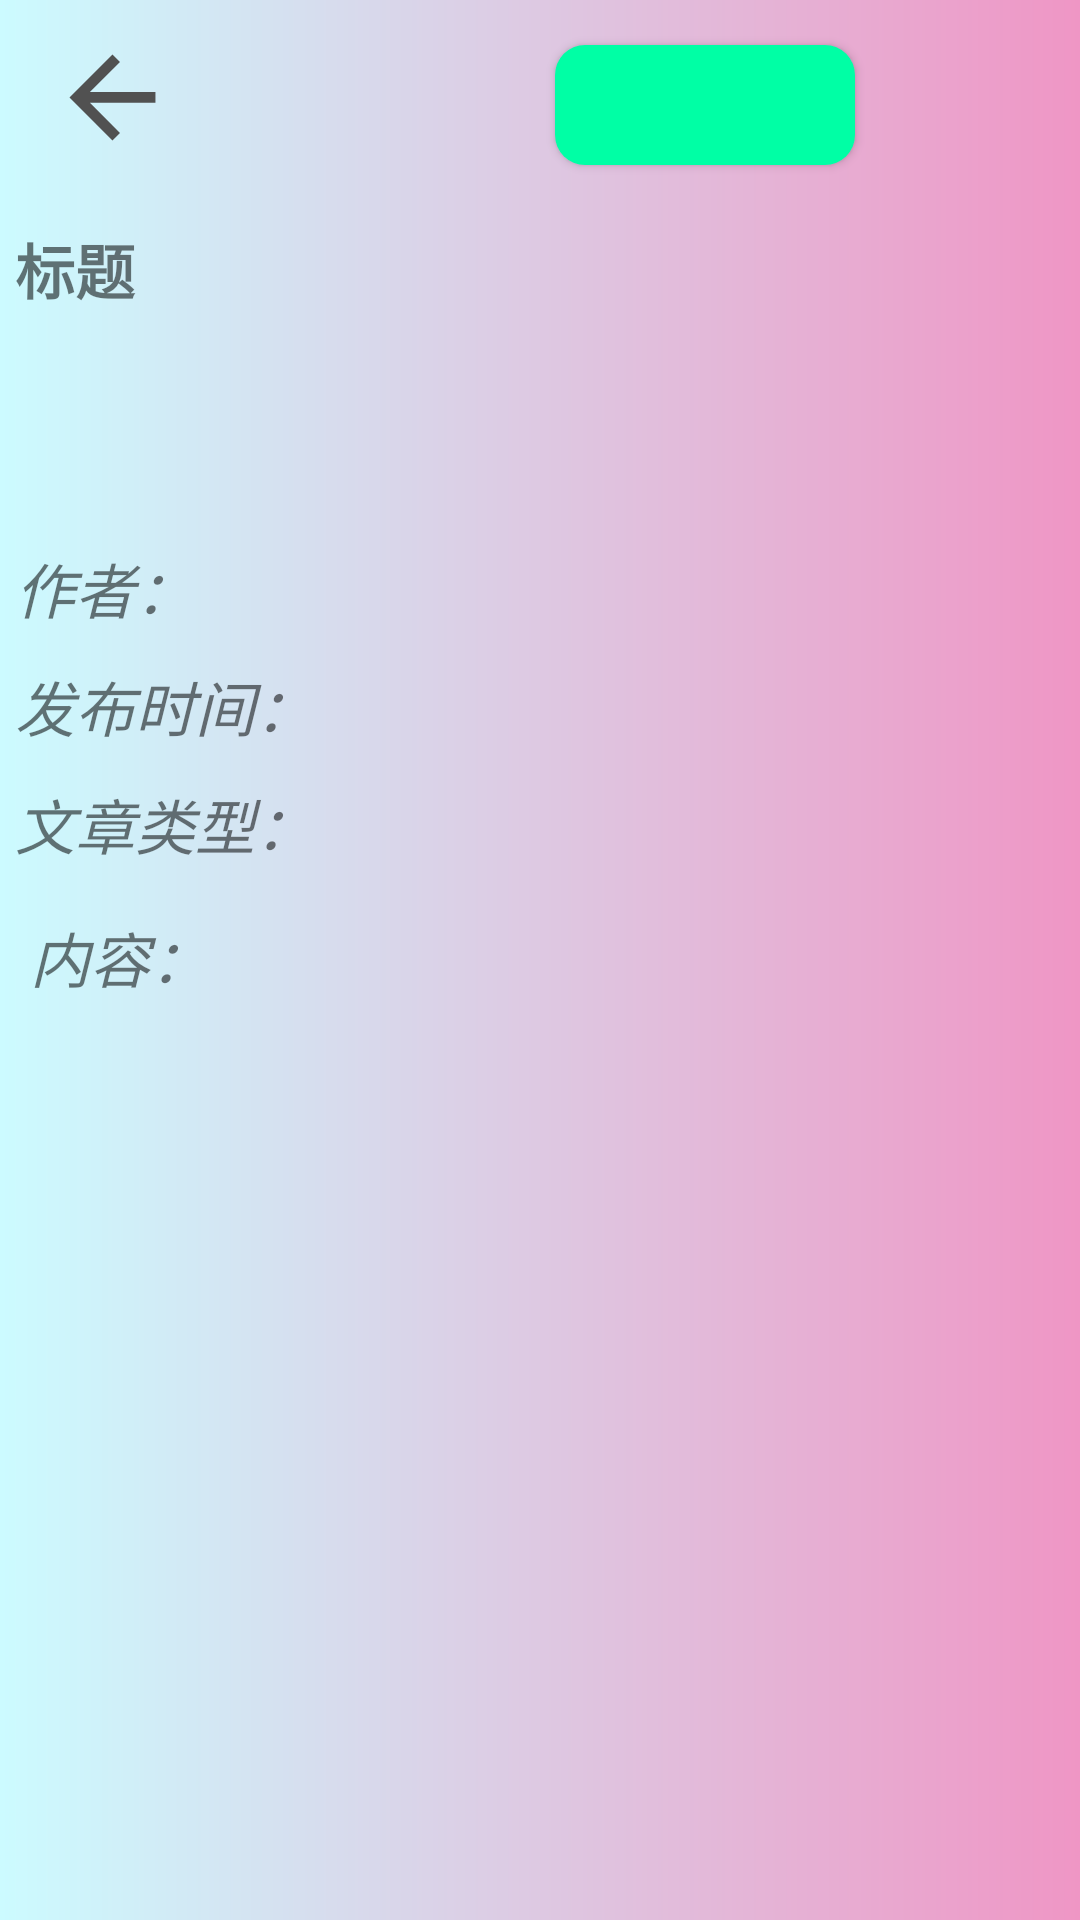

Point at icon controls on the screen. Image size 1080 x 1920, points as (x,y).
back: (112,97)
